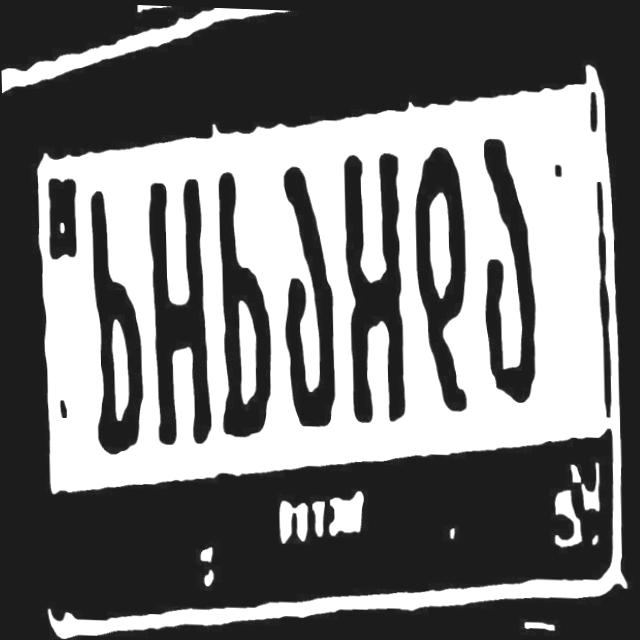6: (409, 142, 469, 417)
9: (471, 131, 538, 411), (277, 154, 335, 432)
h: (145, 175, 213, 456), (339, 147, 406, 431)
p: (208, 158, 273, 450), (82, 179, 145, 473)
